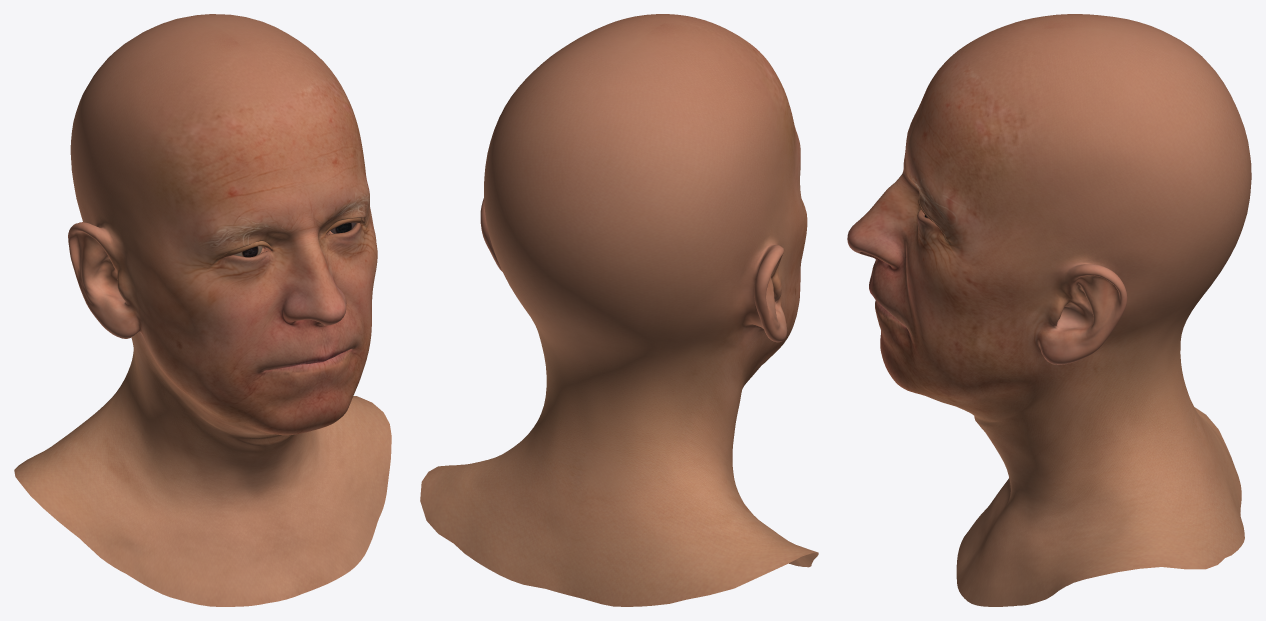
The picture shows the model from 3 angles, left to right: view 1: azimuth 30°, elevation 25°; view 2: azimuth 150°, elevation 25°; view 3: azimuth 270°, elevation 25°; orthographic projection. The views are drawn at different scales.
Parts seen in each view (by area): view 1: Registered head; view 2: Registered head; view 3: Registered head.
Boxes of the visible parts, <box> form: Registered head: <box>14,14,391,606</box>; Registered head: <box>420,14,818,606</box>; Registered head: <box>847,14,1251,606</box>.
Size of the model in its own units: 1.28 by 1.82 by 1.22.
3 materials, 3 textured.
